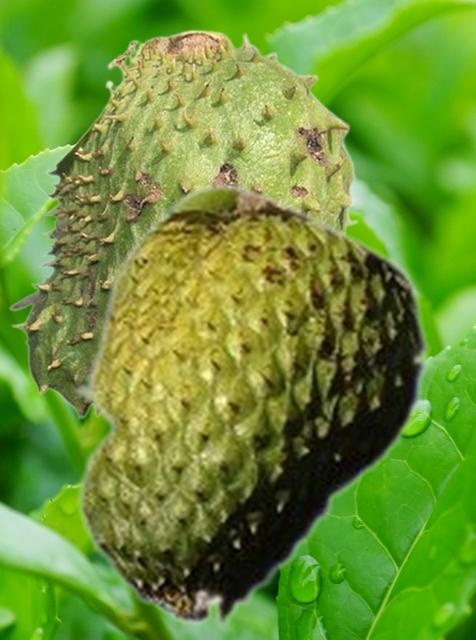guyabano: (71, 181, 430, 631), (8, 29, 358, 420)
